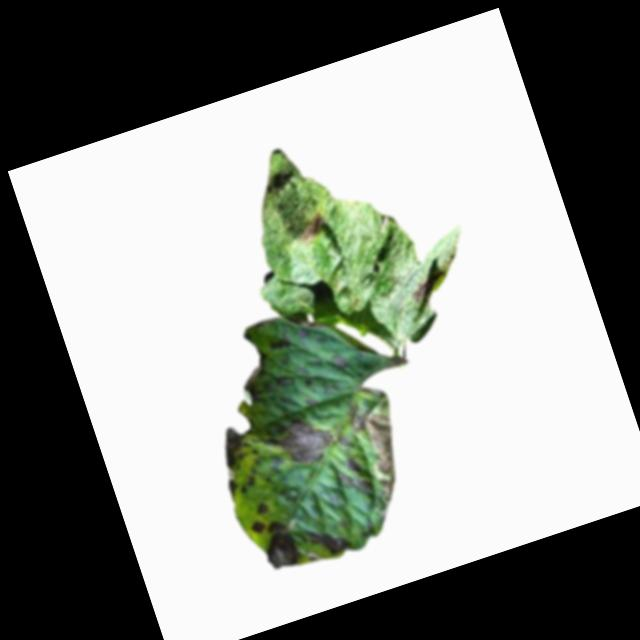Early_blight: (344, 391, 421, 510), (262, 404, 343, 474), (256, 513, 307, 572), (215, 421, 261, 475), (305, 517, 355, 563), (333, 453, 372, 503), (293, 206, 334, 246), (223, 471, 257, 500), (408, 277, 434, 304), (266, 333, 293, 354), (332, 349, 352, 372), (253, 499, 271, 516), (250, 517, 268, 534)
